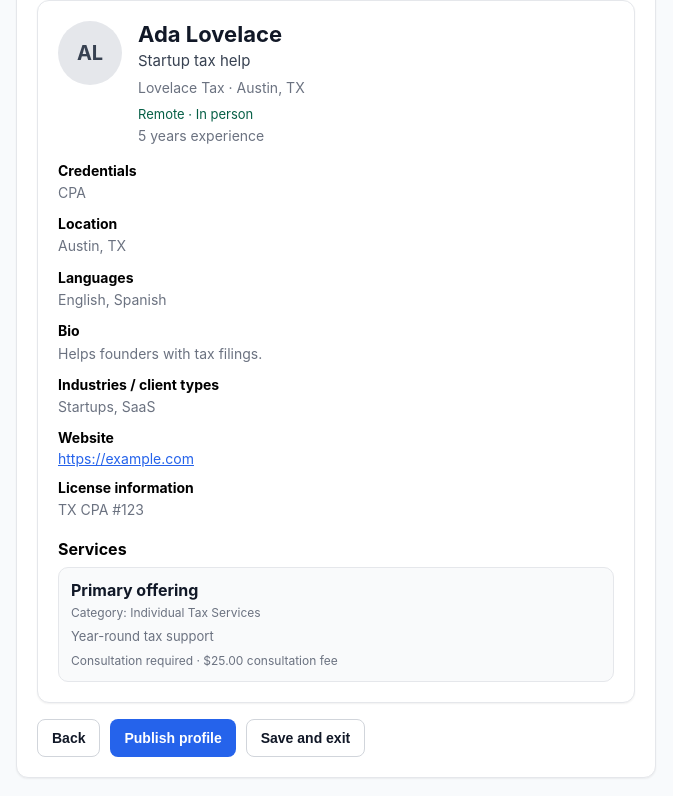
Test case: Back goes to Services
(page scrolled)
Click the button "Back".
click(69, 738)  # box [37,719,100,757]
(page scrolled)
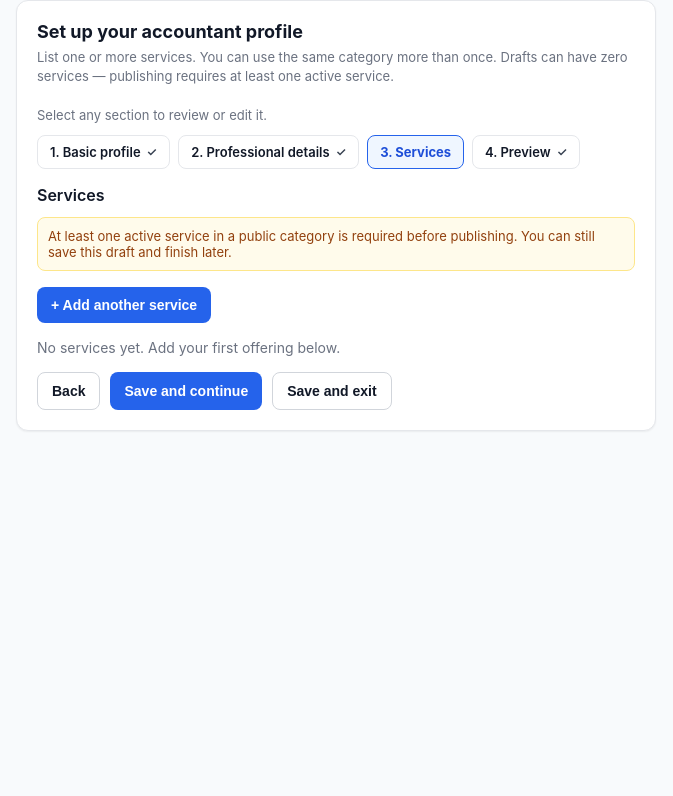
Now the text "List one or more services" is shown, box [37,49,627,84]
